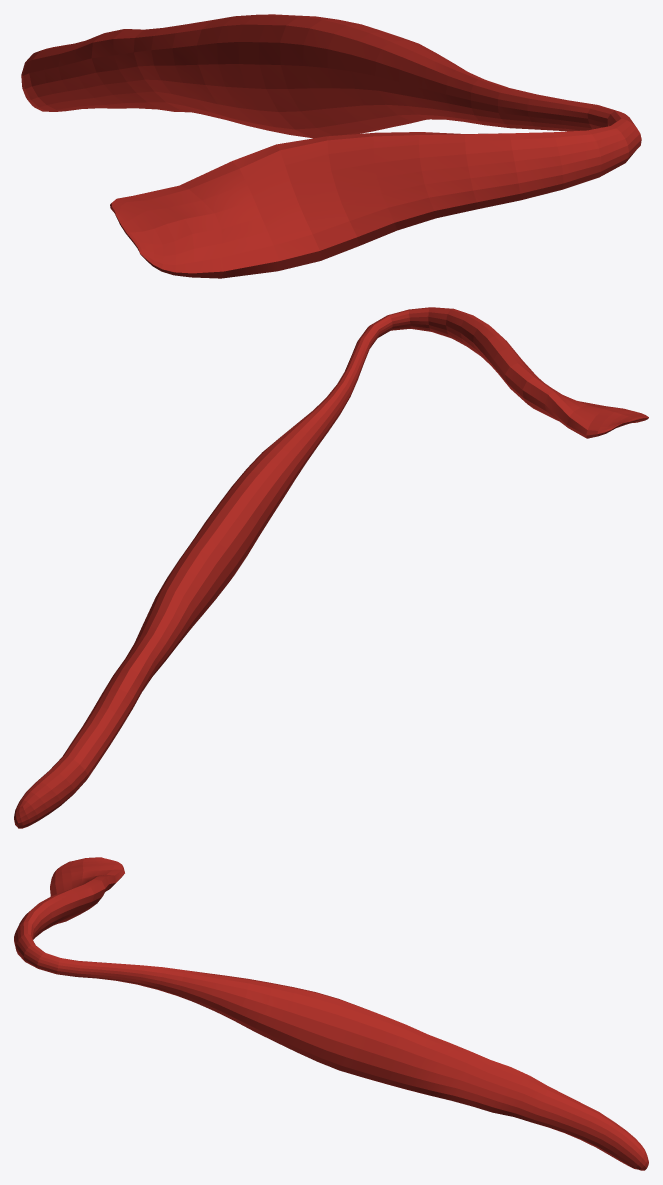
File: frau2-412.glb
3 views of the same model, one above another, from view 1: azimuth 30°, elevation 25°; view 2: azimuth 150°, elevation 25°; view 3: azimuth 270°, elevation 25° (orthographic). The views are drawn at different scales.
Visible parts, largest first — view 1: VH_F_superior_oblique_extraocular_muscle_R; view 2: VH_F_superior_oblique_extraocular_muscle_R; view 3: VH_F_superior_oblique_extraocular_muscle_R.
Boxes of the visible parts, x1,y1,x2,y2 form: VH_F_superior_oblique_extraocular_muscle_R: (21, 14, 641, 278); VH_F_superior_oblique_extraocular_muscle_R: (14, 307, 648, 828); VH_F_superior_oblique_extraocular_muscle_R: (14, 857, 648, 1170).
Bounding box in the file's own units: 0.0206 × 0.0181 × 0.0465.
